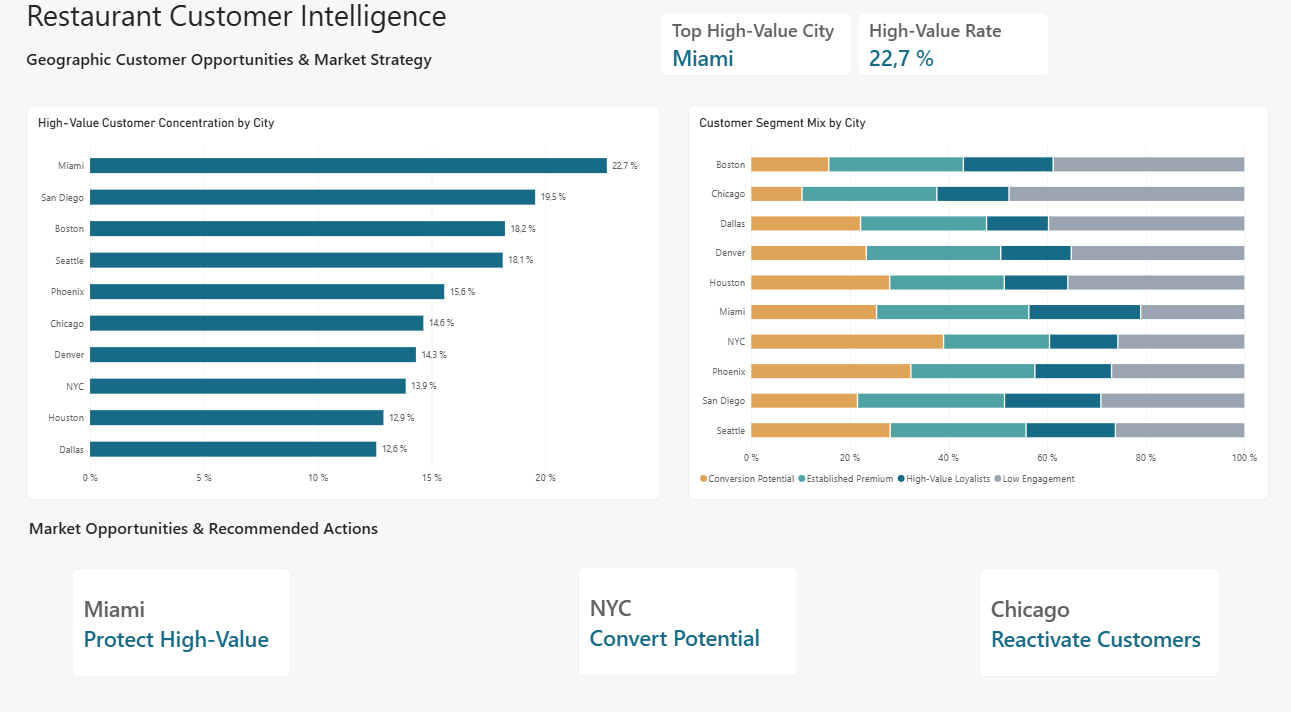

This screenshot's page, from the dashboard's own definition file:
{"tool":"powerbi","page":{"name":"Geographic Strategy","canvas":[1920,1080],"ordinal":1},"visuals":[{"type":"textbox","box":[0,0,796.6,160.5],"z":0},{"type":"textbox","box":[0,78.2,666.9,80.3],"z":1},{"type":"clusteredBarChart","title":"High-Value Customer Concentration by City","fields":{"Category":["customers_segmented.ciudad_residencia"],"Y":["customers_segmented.High-Value Customer Rate"]},"box":[43.2,163.5,938.6,584.6],"z":2},{"type":"barChart","title":"Customer Segment Mix by City","fields":{"Category":["customers_segmented.ciudad_residencia"],"Series":["customers_segmented.segment"],"Y":["customers_segmented.Segment Customer Rate"]},"box":[1023,163.5,860.4,584.6],"z":3},{"type":"cardVisual","fields":{"Data":["customers_segmented.Top High-Value City","customers_segmented.Top High-Value City Rate"]},"box":[982,26,576,94],"z":4},{"type":"textbox","box":[797,0,185,161],"z":5},{"type":"textbox","box":[4.1,771.9,648.4,51.5],"z":6},{"type":"cardVisual","fields":{"Data":["customers_segmented.Miami Recommended Action"]},"box":[109.1,850.1,325,161],"z":7},{"type":"cardVisual","fields":{"Data":["customers_segmented.NYC"]},"box":[860,848,325,161],"z":8},{"type":"cardVisual","fields":{"Data":["customers_segmented.Chicago"]},"box":[1454,850,356,160],"z":9}]}

Visuals, with their boxes in screenshot pixels (x1, y1, x2, y2), scaled from the page's 1920x1080 canvas onto the 1291x712 screenshot:
textbox: (x1=0, y1=0, x2=536, y2=106)
textbox: (x1=0, y1=52, x2=448, y2=104)
"High-Value Customer Concentration by City" clusteredBarChart: (x1=29, y1=108, x2=660, y2=493)
"Customer Segment Mix by City" barChart: (x1=688, y1=108, x2=1266, y2=493)
cardVisual - customers_segmented.Top High-Value City x customers_segmented.Top High-Value City Rate: (x1=660, y1=17, x2=1048, y2=79)
textbox: (x1=536, y1=0, x2=660, y2=106)
textbox: (x1=3, y1=509, x2=439, y2=543)
cardVisual - customers_segmented.Miami Recommended Action: (x1=73, y1=560, x2=292, y2=667)
cardVisual - customers_segmented.NYC: (x1=578, y1=559, x2=797, y2=665)
cardVisual - customers_segmented.Chicago: (x1=978, y1=560, x2=1217, y2=666)
